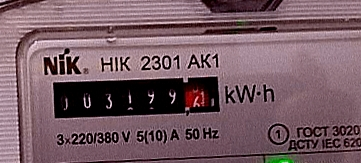0: (56, 90, 70, 112), (79, 88, 93, 109)
1: (123, 85, 134, 105)
3: (101, 90, 114, 110)
6: (191, 92, 202, 109)
9: (144, 84, 157, 105), (165, 85, 178, 105)
screen: (44, 64, 230, 132)
